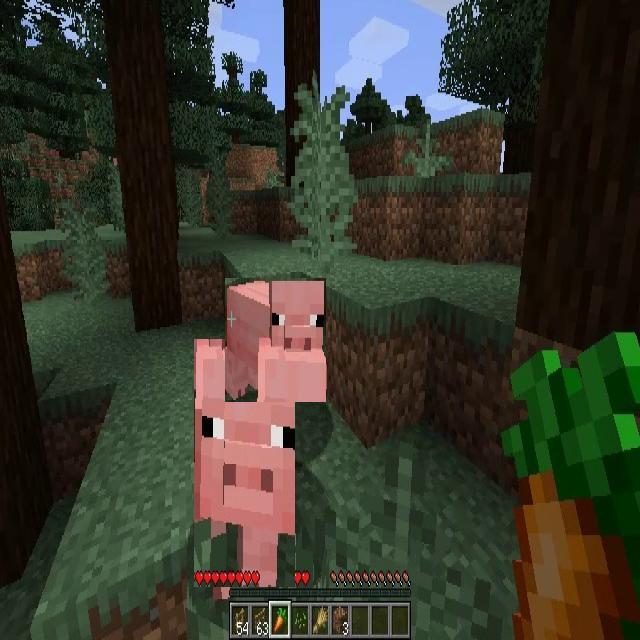pig: (194, 339, 295, 587), (225, 278, 326, 402)
